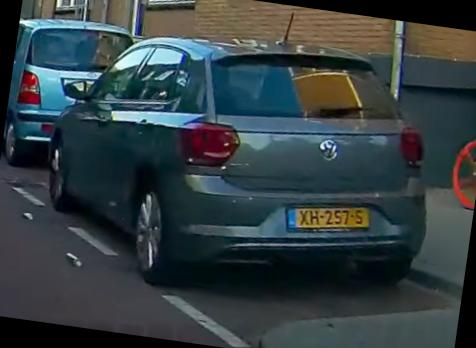license-plate: (283, 206, 372, 230)
